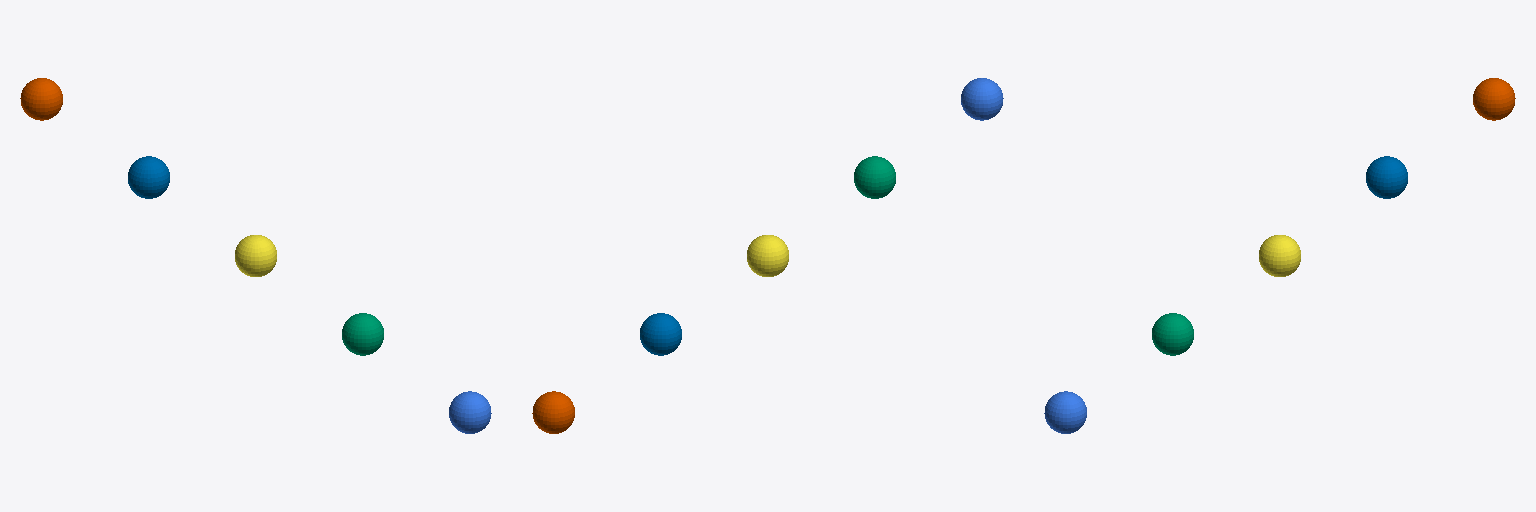
The robot description file, URDF, robot "pendulum":
<?xml version="1.0" encoding="utf-8"?>
<robot name="pendulum">
  <!--
  Author: Erwin Coumans <[email redacted]>
  Contributers:
-->
  
  <link name="world"/>
  <material name="Blue">
    <color rgba="0.28 0.52 0.92 1.0"/>
  </material>
  <link name="link0">
    <visual>
      <geometry>
        <sphere radius="0.05"/>
      </geometry>
      <origin rpy="0 0 0" xyz="0 0.5 0"/>
      <material name="Blue"/>
    </visual>
    <collision>
      <geometry>
        <sphere radius="0.05"/>
      </geometry>
      <origin rpy="0 0 0" xyz="0 0.5 0"/>
    </collision>
    <inertial>
      <origin rpy="0 0 0" xyz="0.0 0.5 0.0"/>
      <mass value="1."/>
      <inertia ixx="0.00494875" ixy="0" ixz="0" iyy="0.00494174" iyz="0" izz="0.002219"/>
    </inertial>
  </link>
  <joint name="joint0" type="continuous">
    <parent link="world"/>
    <child link="link0"/>
    <origin rpy="0 0 0" xyz="0 0 0"/>
    <axis xyz="1 0 0"/>
    <dynamics damping="1.0" friction="1.0"/>
  </joint>
  <link name="link1">
    <visual>
      <geometry>
        <sphere radius="0.05"/>
      </geometry>
      <origin rpy="0 0 0" xyz="0 0.5 0"/>
      <material name="Red"/>
    </visual>
    <collision>
      <geometry>
        <sphere radius="0.05"/>
      </geometry>
      <origin rpy="0 0 0" xyz="0 0.5 0"/>
    </collision>
    <inertial>
      <origin rpy="0 0 0" xyz="0 0.5 0"/>
      <mass value="2.16"/>
      <inertia ixx="0.00539427" ixy="0" ixz="0" iyy="0.0048979" iyz="0" izz="0.00311573"/>
    </inertial>
  </link>
  <joint name="joint1" type="continuous">
    <parent link="link0"/>
    <child link="link1"/>
    <origin rpy="0 0 0" xyz="0 0.5 0"/>
    <axis xyz="1 0 0"/>
    <dynamics damping="1.0" friction="1.0"/>
  </joint>
 <link name="link2">
    <visual>
      <geometry>
        <sphere radius="0.05"/>
      </geometry>
      <origin rpy="0 0 0" xyz="0 0.5 0"/>
      <material name="Red"/>
    </visual>
    <collision>
      <geometry>
        <sphere radius="0.05"/>
      </geometry>
      <origin rpy="0 0 0" xyz="0 0.5 0"/>
    </collision>
    <inertial>
      <origin rpy="0 0 0" xyz="0 0.5 0"/>
      <mass value="2.16"/>
      <inertia ixx="0.00539427" ixy="0" ixz="0" iyy="0.0048979" iyz="0" izz="0.00311573"/>
    </inertial>
  </link>
  <joint name="joint2" type="continuous">
    <parent link="link1"/>
    <child link="link2"/>
    <origin rpy="0 0 0" xyz="0 0.5 0"/>
    <axis xyz="1 0 0"/>
    <dynamics damping="1.0" friction="1.0"/>
  </joint>
  <link name="link3">
    <visual>
      <geometry>
        <sphere radius="0.05"/>
      </geometry>
      <origin rpy="0 0 0" xyz="0 0.5 0"/>
      <material name="Red"/>
    </visual>
    <collision>
      <geometry>
        <sphere radius="0.05"/>
      </geometry>
      <origin rpy="0 0 0" xyz="0 0.5 0"/>
    </collision>
    <inertial>
      <origin rpy="0 0 0" xyz="0 0.5 0"/>
      <mass value="2.16"/>
      <inertia ixx="0.00539427" ixy="0" ixz="0" iyy="0.0048979" iyz="0" izz="0.00311573"/>
    </inertial>
  </link>
  <joint name="joint3" type="continuous">
    <parent link="link2"/>
    <child link="link3"/>
    <origin rpy="0 0 0" xyz="0 0.5 0"/>
    <axis xyz="1 0 0"/>
    <dynamics damping="1.0" friction="1.0"/>
  </joint>
   <link name="link4">
    <visual>
      <geometry>
        <sphere radius="0.05"/>
      </geometry>
      <origin rpy="0 0 0" xyz="0 0.5 0"/>
      <material name="Red"/>
    </visual>
    <collision>
      <geometry>
        <sphere radius="0.05"/>
      </geometry>
      <origin rpy="0 0 0" xyz="0 0.5 0"/>
    </collision>
    <inertial>
      <origin rpy="0 0 0" xyz="0 0.5 0"/>
      <mass value="2.16"/>
      <inertia ixx="0.00539427" ixy="0" ixz="0" iyy="0.0048979" iyz="0" izz="0.00311573"/>
    </inertial>
  </link>
  <joint name="joint4" type="continuous">
    <parent link="link3"/>
    <child link="link4"/>
    <origin rpy="0 0 0" xyz="0 0.5 0"/>
    <axis xyz="1 0 0"/>
    <dynamics damping="1.0" friction="1.0"/>
  </joint>
</robot>

--- Facts derived from the render (not from the file) ---
The picture shows the robot from 3 angles, left to right: view 1: azimuth 30°, elevation 25°; view 2: azimuth 150°, elevation 25°; view 3: azimuth 330°, elevation 25°; orthographic projection.
Robot: pendulum — 6 links, 5 joints (5 continuous); root link world; default pose: all joints at 0.
Visible links, largest first — view 1: link2, link0, link4, link1, link3; view 2: link2, link0, link4, link1, link3; view 3: link2, link0, link4, link1, link3.
Link boxes in pixels (x1,y1,x2,y2): link2: (235, 235, 276, 276); link0: (449, 391, 491, 433); link4: (20, 78, 62, 120); link1: (342, 313, 383, 355); link3: (128, 156, 169, 198); link2: (747, 235, 788, 276); link0: (961, 78, 1003, 120); link4: (532, 391, 574, 433); link1: (854, 156, 895, 198); link3: (640, 313, 681, 355); link2: (1259, 235, 1300, 276); link0: (1044, 391, 1086, 433); link4: (1473, 78, 1515, 120); link1: (1152, 313, 1193, 355); link3: (1366, 156, 1407, 198).
Size in the robot's own frame: 0.1 by 2.1 by 0.1 metres.
Geometry: primitives only (box / cylinder / sphere), no mesh files.
